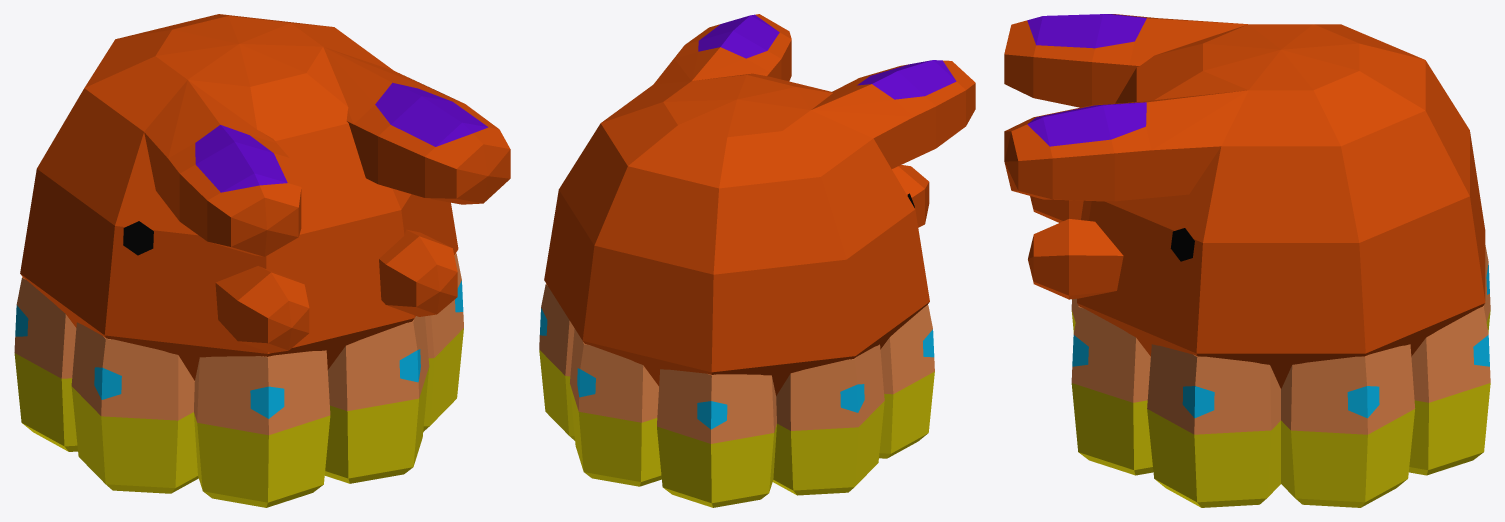
Rendered from Péripate.fbx.
The picture shows the model from 3 angles, left to right: view 1: azimuth 30°, elevation 25°; view 2: azimuth 150°, elevation 25°; view 3: azimuth 270°, elevation 25°; orthographic projection. The views are drawn at different scales.
Parts seen in each view (by area): view 1: Sphere.001, Cylinder.001, Cylinder; view 2: Sphere.001, Cylinder.001; view 3: Sphere.001, Cylinder.001, Cylinder.002.
Boxes of the visible parts, <box> form: Sphere.001: <box>20,14,510,380</box>; Cylinder.001: <box>14,253,463,507</box>; Cylinder: <box>123,221,153,255</box>; Sphere.001: <box>544,14,975,395</box>; Cylinder.001: <box>539,284,934,507</box>; Sphere.001: <box>1004,14,1485,388</box>; Cylinder.001: <box>1071,245,1490,507</box>; Cylinder.002: <box>1170,228,1194,261</box>.
Size of the model in its own units: 125 by 124 by 145.
